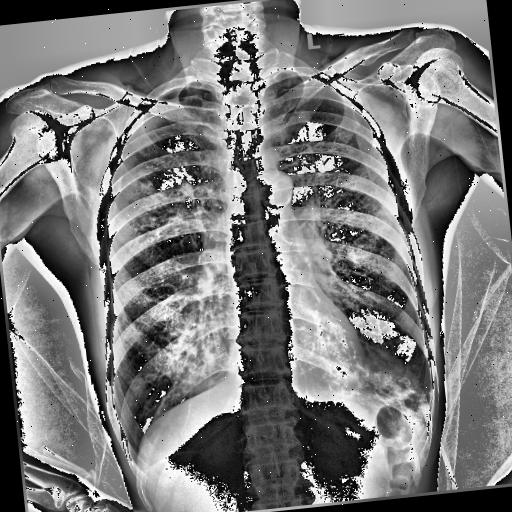10- Pleural effusion: (414, 414, 434, 433)
11- Pleural thickening: (414, 414, 434, 433)
13- Pulmonary fibrosis: (331, 336, 433, 430), (352, 348, 426, 416), (134, 168, 200, 240), (136, 178, 198, 228), (150, 396, 167, 419)
6- Infiltration: (332, 168, 400, 326), (331, 336, 433, 430), (160, 297, 227, 396), (136, 178, 198, 228)
7- Lung Opacity: (322, 322, 434, 422), (153, 286, 240, 400)
9- Other lesion: (352, 348, 426, 416)
